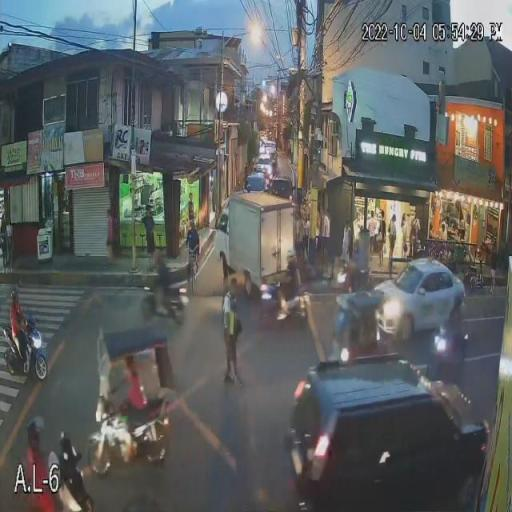helmet: (26, 417, 45, 433), (10, 286, 22, 299)
motorcycle: (86, 390, 172, 478), (52, 433, 99, 512), (2, 314, 48, 380), (252, 278, 298, 328), (430, 323, 466, 386), (142, 281, 186, 328)
rider: (16, 416, 57, 512), (120, 354, 158, 438), (8, 286, 38, 356), (150, 250, 181, 308), (276, 251, 303, 315), (436, 301, 462, 349)
